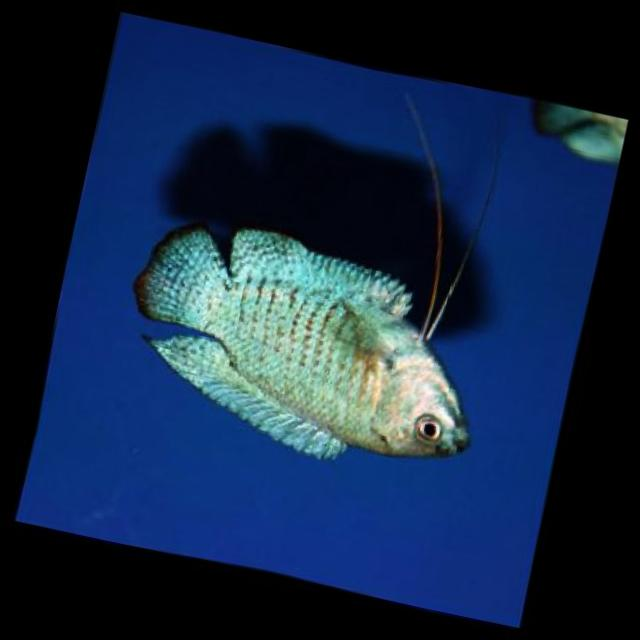Gourami: (108, 205, 494, 490)
